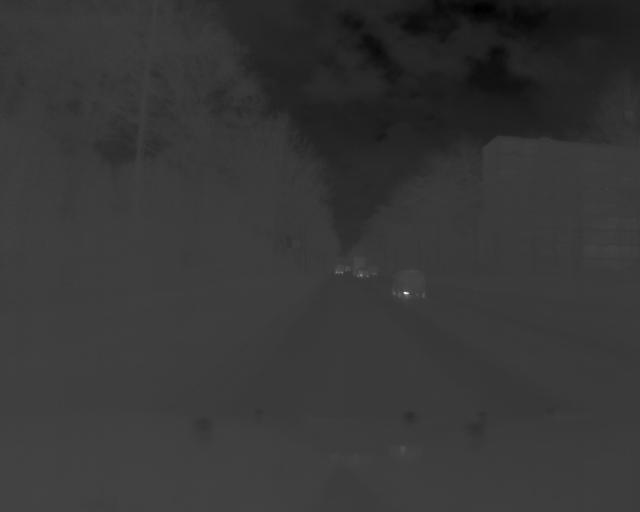car: (389, 267, 429, 301)
